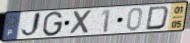0: (125, 7, 144, 32)
1: (101, 8, 112, 34)
D: (144, 5, 171, 31)
G: (41, 11, 65, 38)
J: (20, 11, 43, 39)
X: (69, 9, 94, 36)
